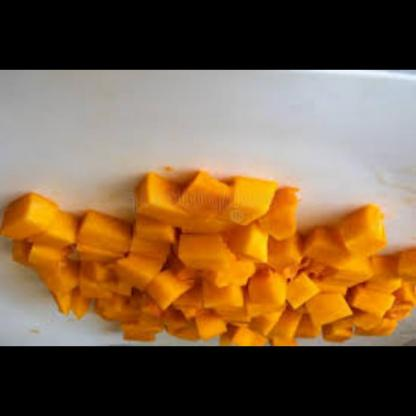pumpkin: (0, 161, 416, 347)
